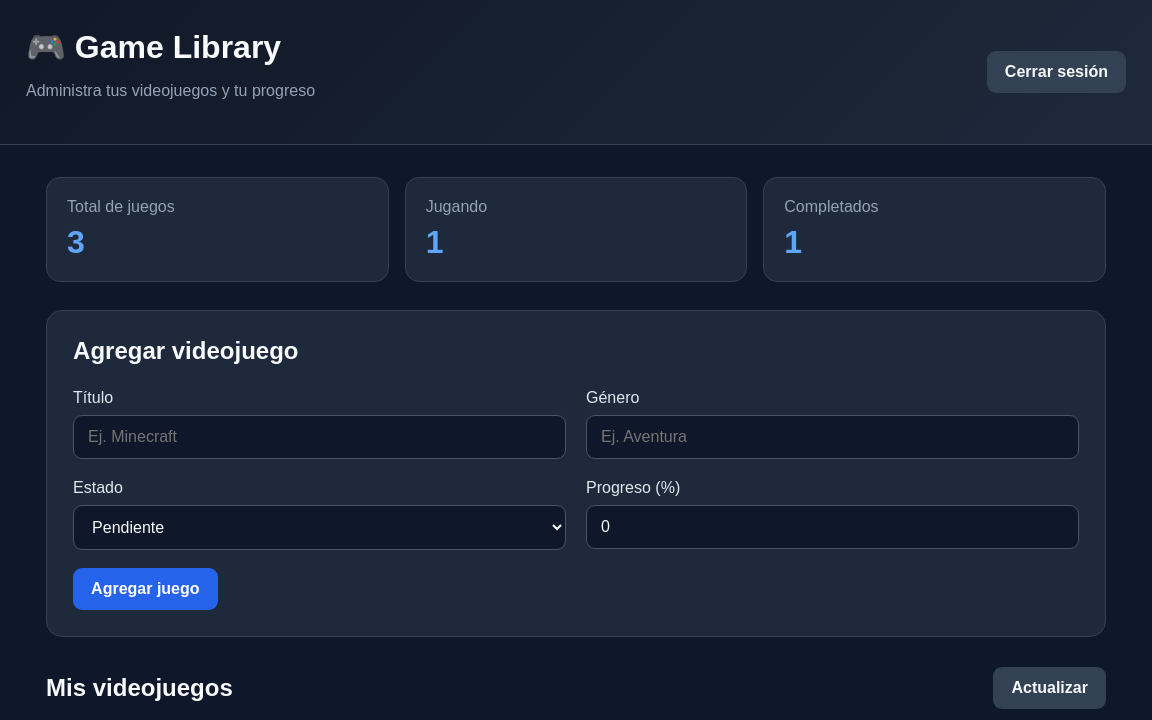
Test: Game Library - componente App (biblioteca) › cierra la sesión: borra el token y vuelve al login
Click the button "Cerrar sesión": (1056, 72) [987,51,1126,93]
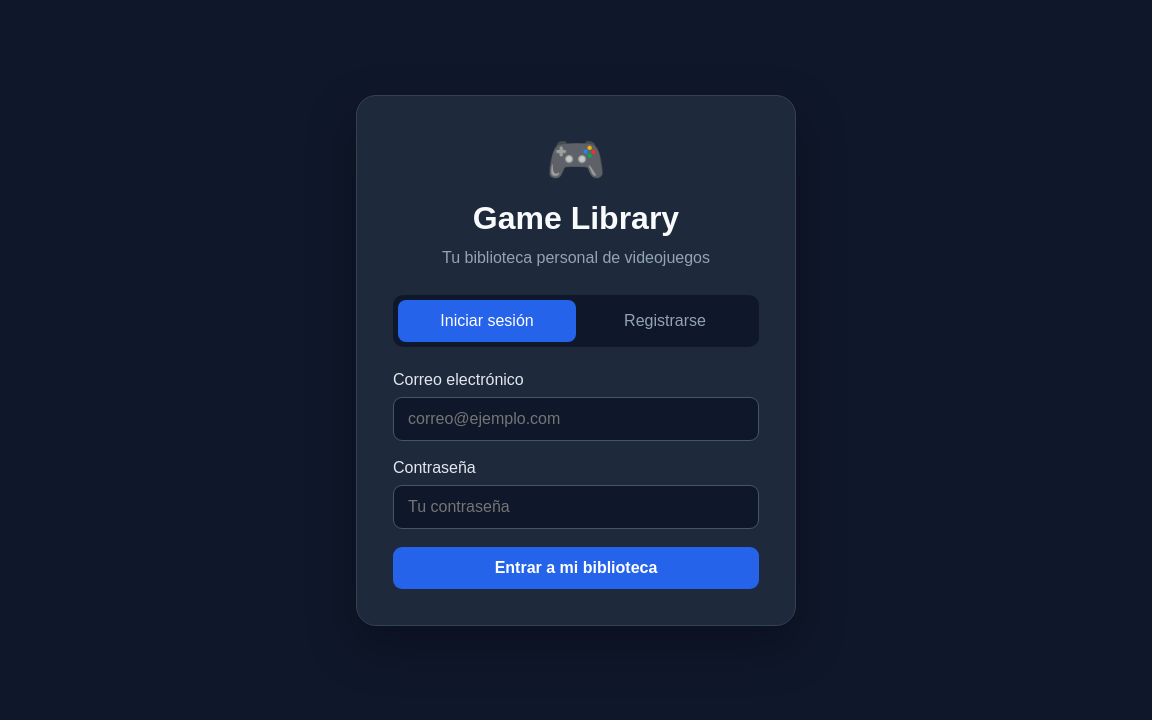
Check: the button "Entrar a mi biblioteca" is shown, box [393,546,759,588]
